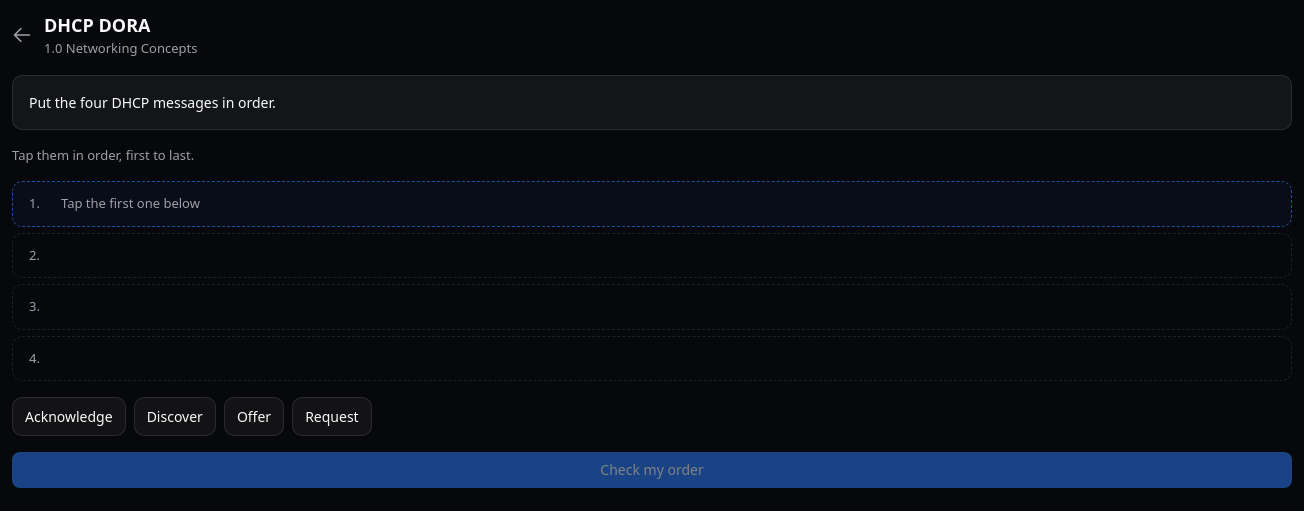
Test: ordering PBQs › fills the next row with each tap, and checks once every item is placed
The image size is (1304, 511).
Check: the button "Check my order" is disabled, box [12, 452, 1292, 488]
Click the button "Discover".
click(175, 416)  # box [134, 397, 216, 436]
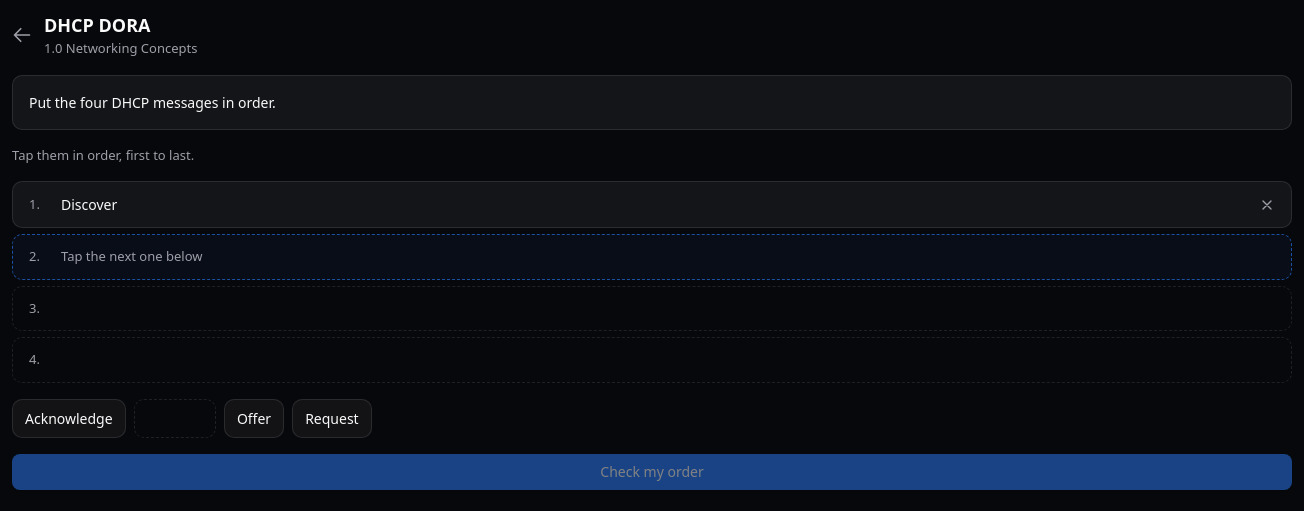
Click the button "Offer".
click(254, 418)  # box [224, 398, 284, 438]
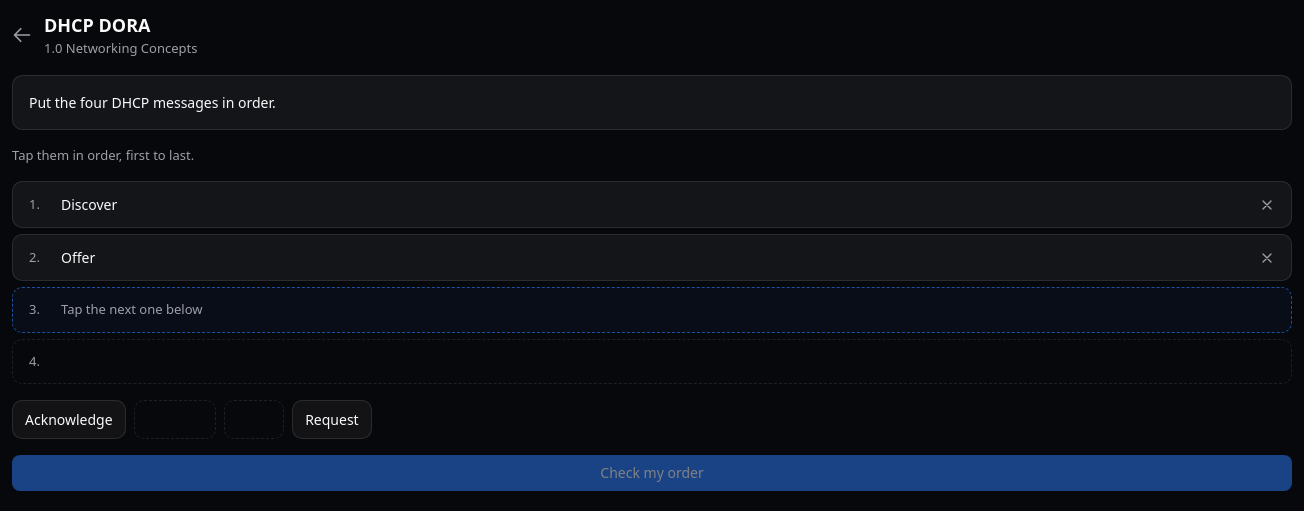
Click the button "Request".
click(332, 420)  # box [292, 400, 372, 439]
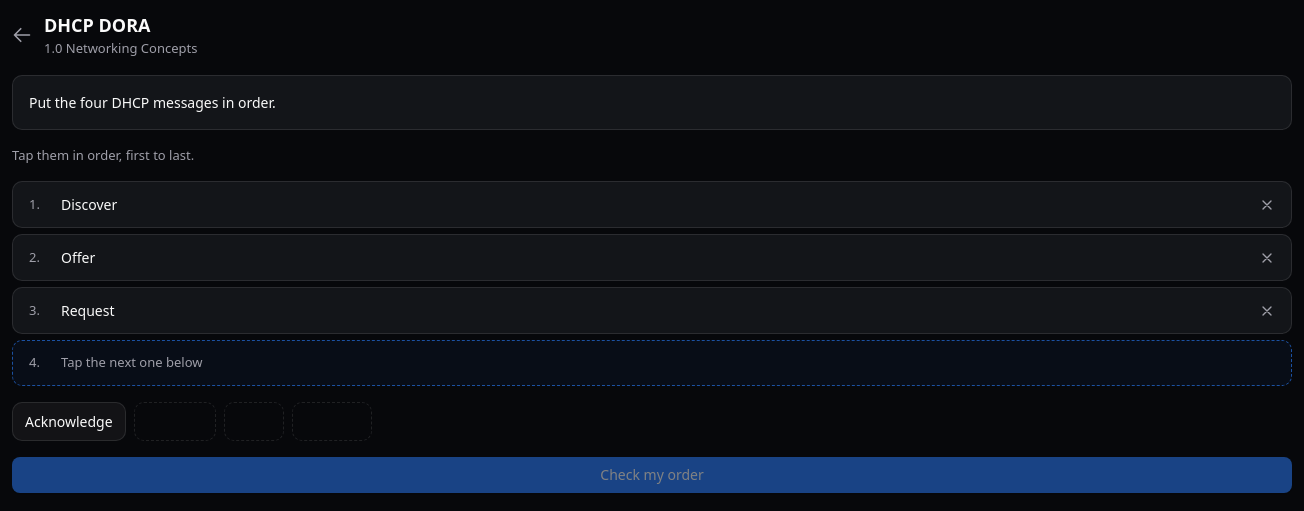
Check: the button "Check my order" is disabled, box [12, 456, 1292, 492]
Check: the button "1. Discover" is shown, box [12, 181, 1292, 228]
Check: the button "3. Request" is shown, box [12, 287, 1292, 334]
Click the button "Acknowledge".
click(69, 421)  # box [12, 402, 126, 440]
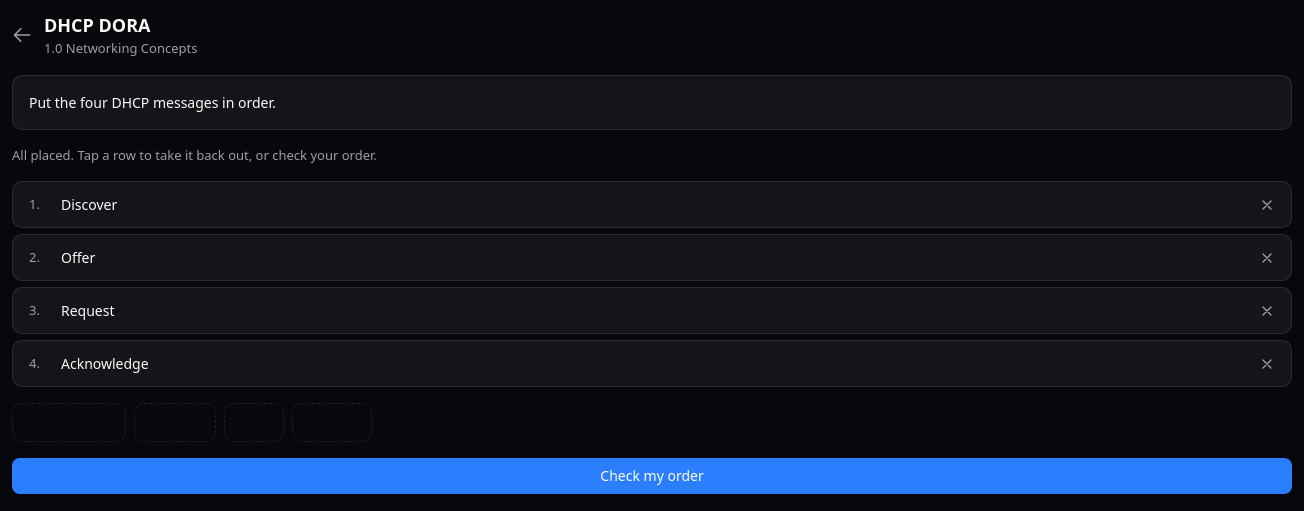
Click the button "Check my order".
click(652, 476)  # box [12, 458, 1292, 494]
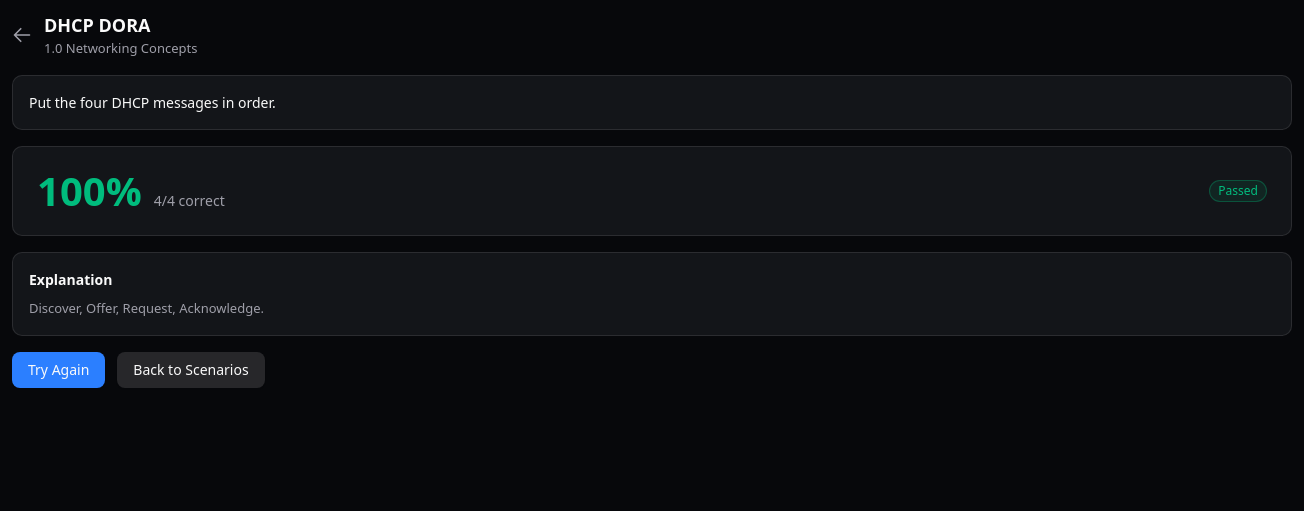
Check: the text "100%" is shown, box [37, 170, 142, 210]
Check: the text "4/4 correct" is shown, box [154, 190, 225, 210]
